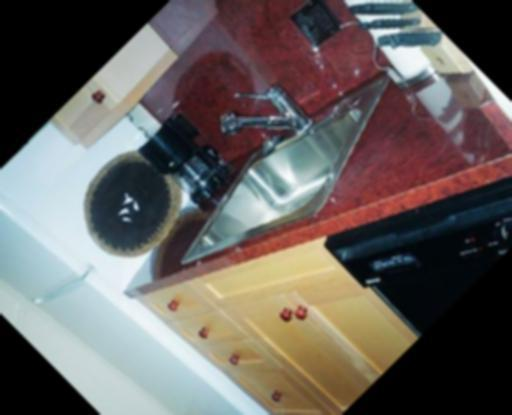Electrodomestico: (314, 92, 512, 341)
Lavaplatos: (101, 5, 426, 329)
